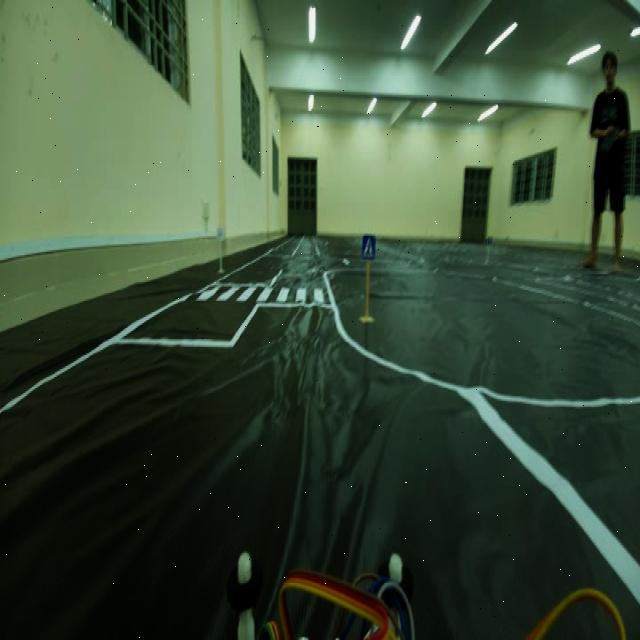crosswalk: (356, 228, 379, 268)
